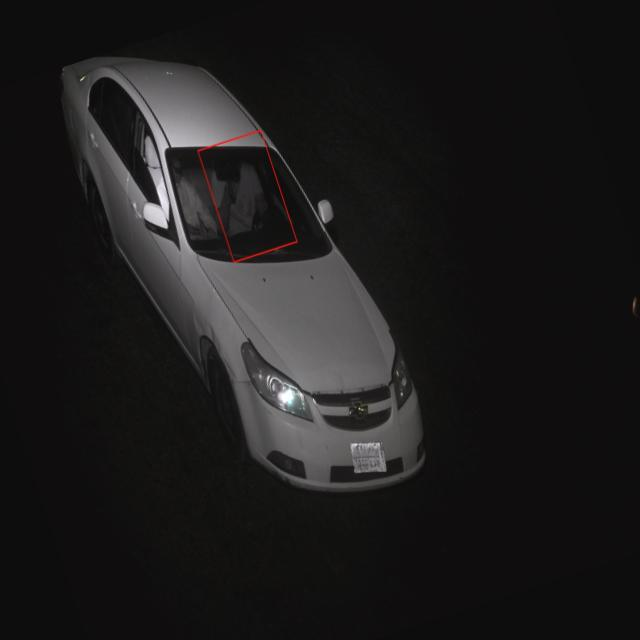windshield: (160, 138, 341, 273)
